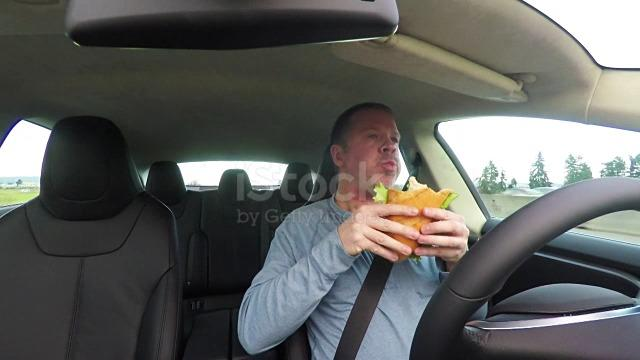Eating: (301, 87, 471, 266)
